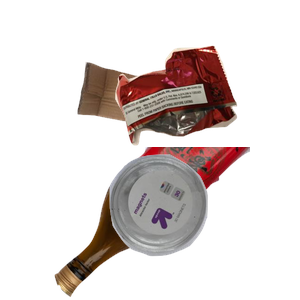cardboard: (75, 59, 237, 176)
glass: (52, 147, 292, 300)
plastic: (107, 152, 300, 300)
trash: (113, 43, 300, 181)
